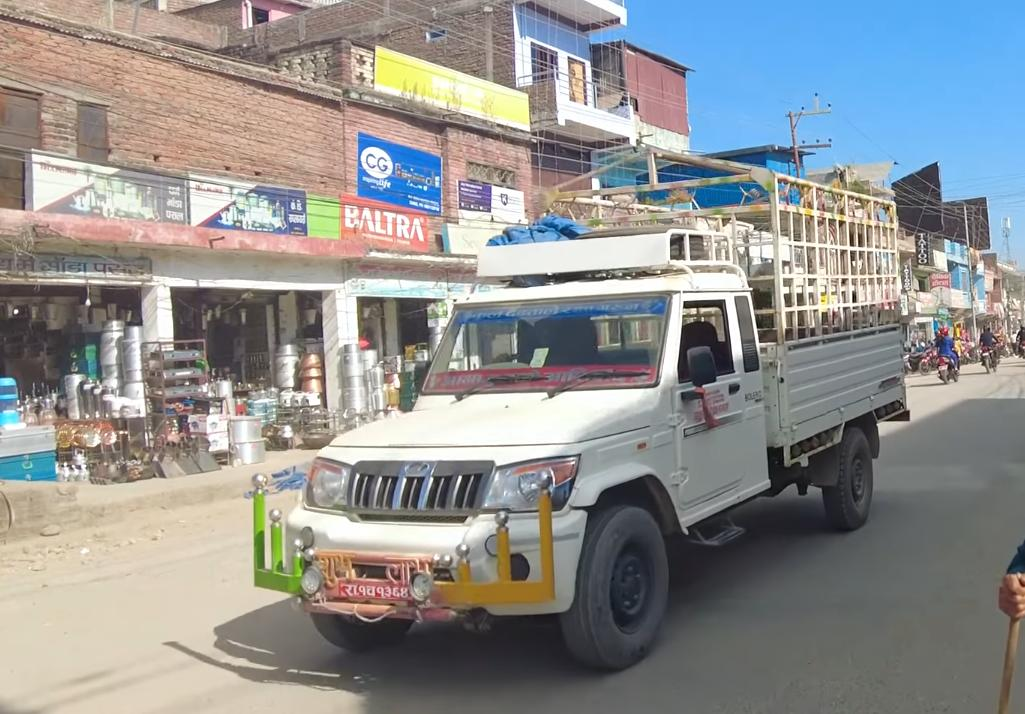bike: (969, 315, 1001, 380)
scooter: (922, 310, 965, 388)
transport_vehicle: (238, 144, 927, 676)
